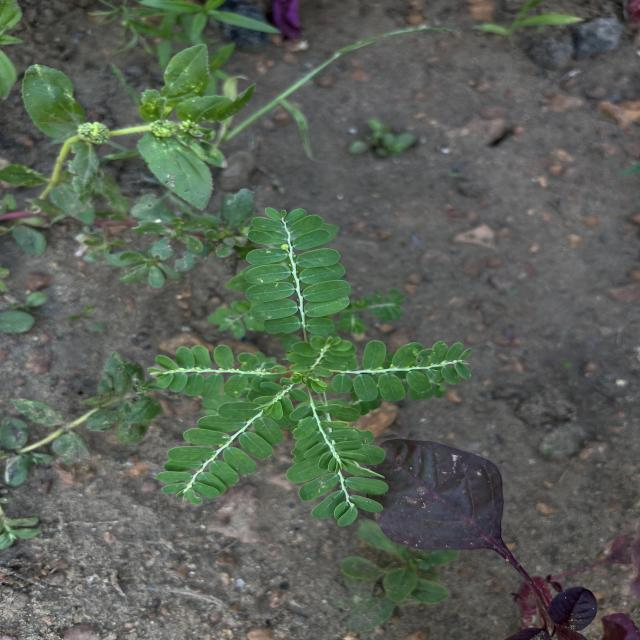Phyllanthus niruri: (154, 384, 292, 504), (243, 205, 351, 346), (289, 398, 392, 528), (338, 339, 474, 405), (144, 342, 273, 398)
